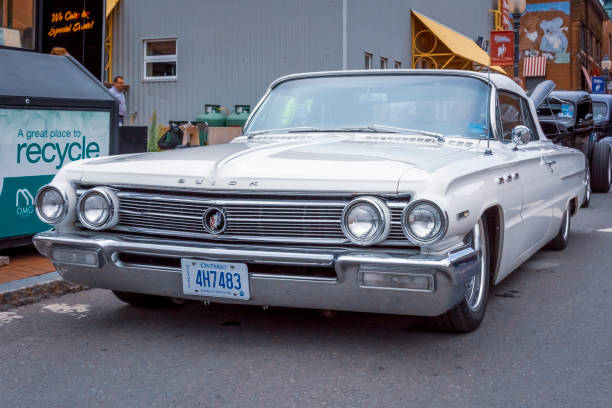licence: (179, 255, 256, 302)
